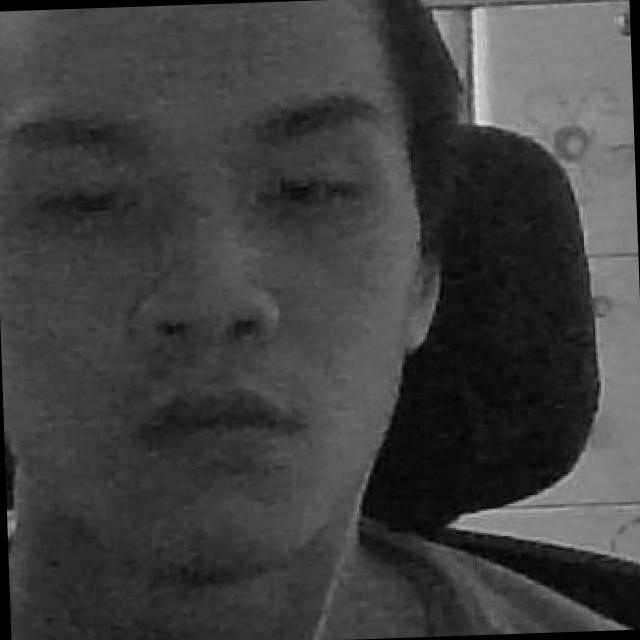Focused: (0, 0, 430, 561)
